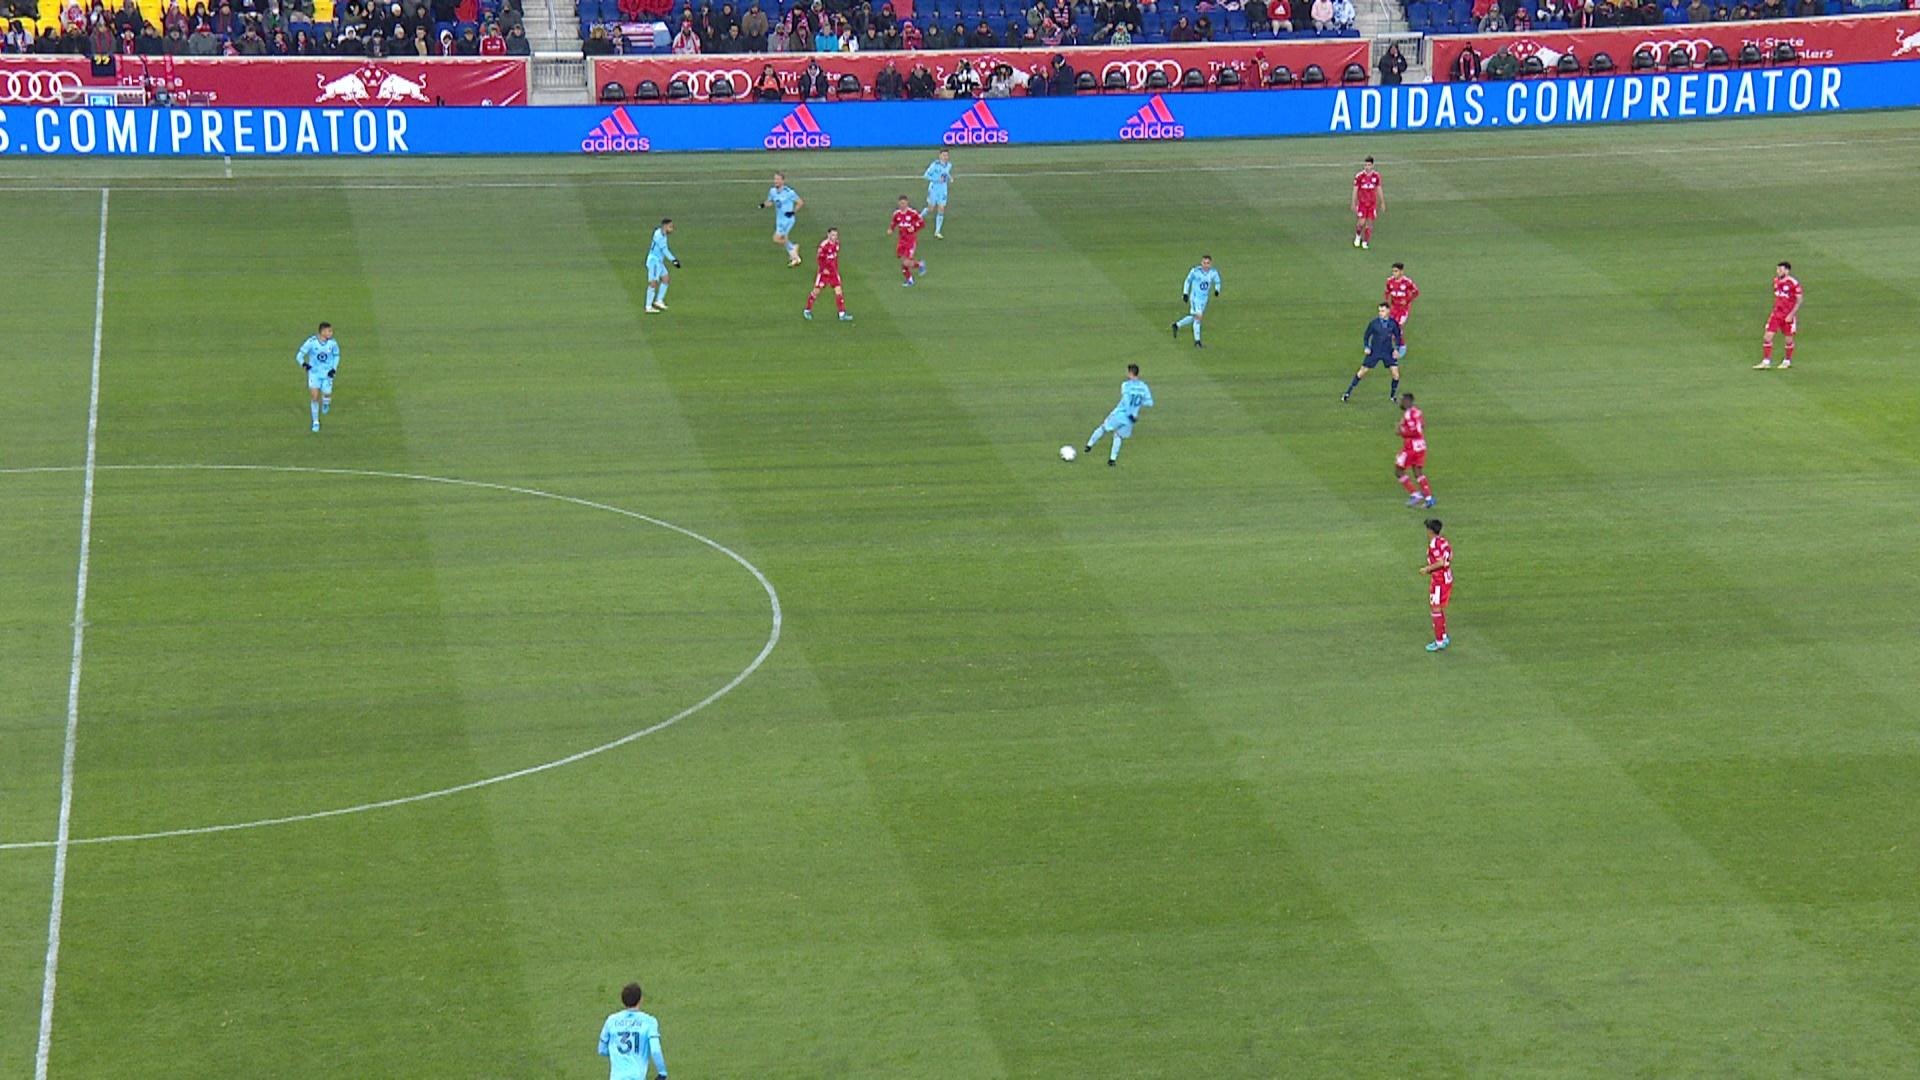football: (1059, 443, 1077, 463)
